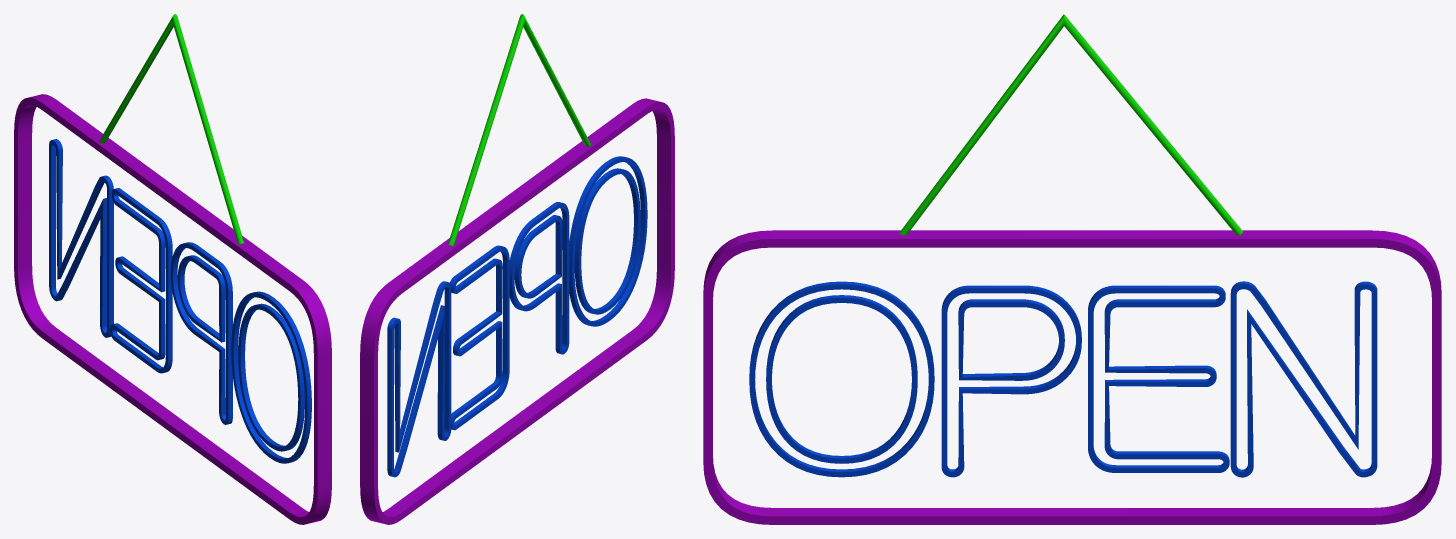
File: tight_text_2.fbx
3 renders of one model, left to right at view 1: azimuth 30°, elevation 25°; view 2: azimuth 150°, elevation 25°; view 3: azimuth 270°, elevation 25°, orthographic. The views are drawn at different scales.
Visible parts, largest first — view 1: Line004; view 2: Line004; view 3: Line004.
Boxes of the visible parts, x1,y1,x2,y2 form: Line004: (14, 14, 331, 524); Line004: (360, 14, 674, 524); Line004: (703, 14, 1441, 524).
Bounding box in the file's own units: 0.3328 × 9.33 × 12.34.
